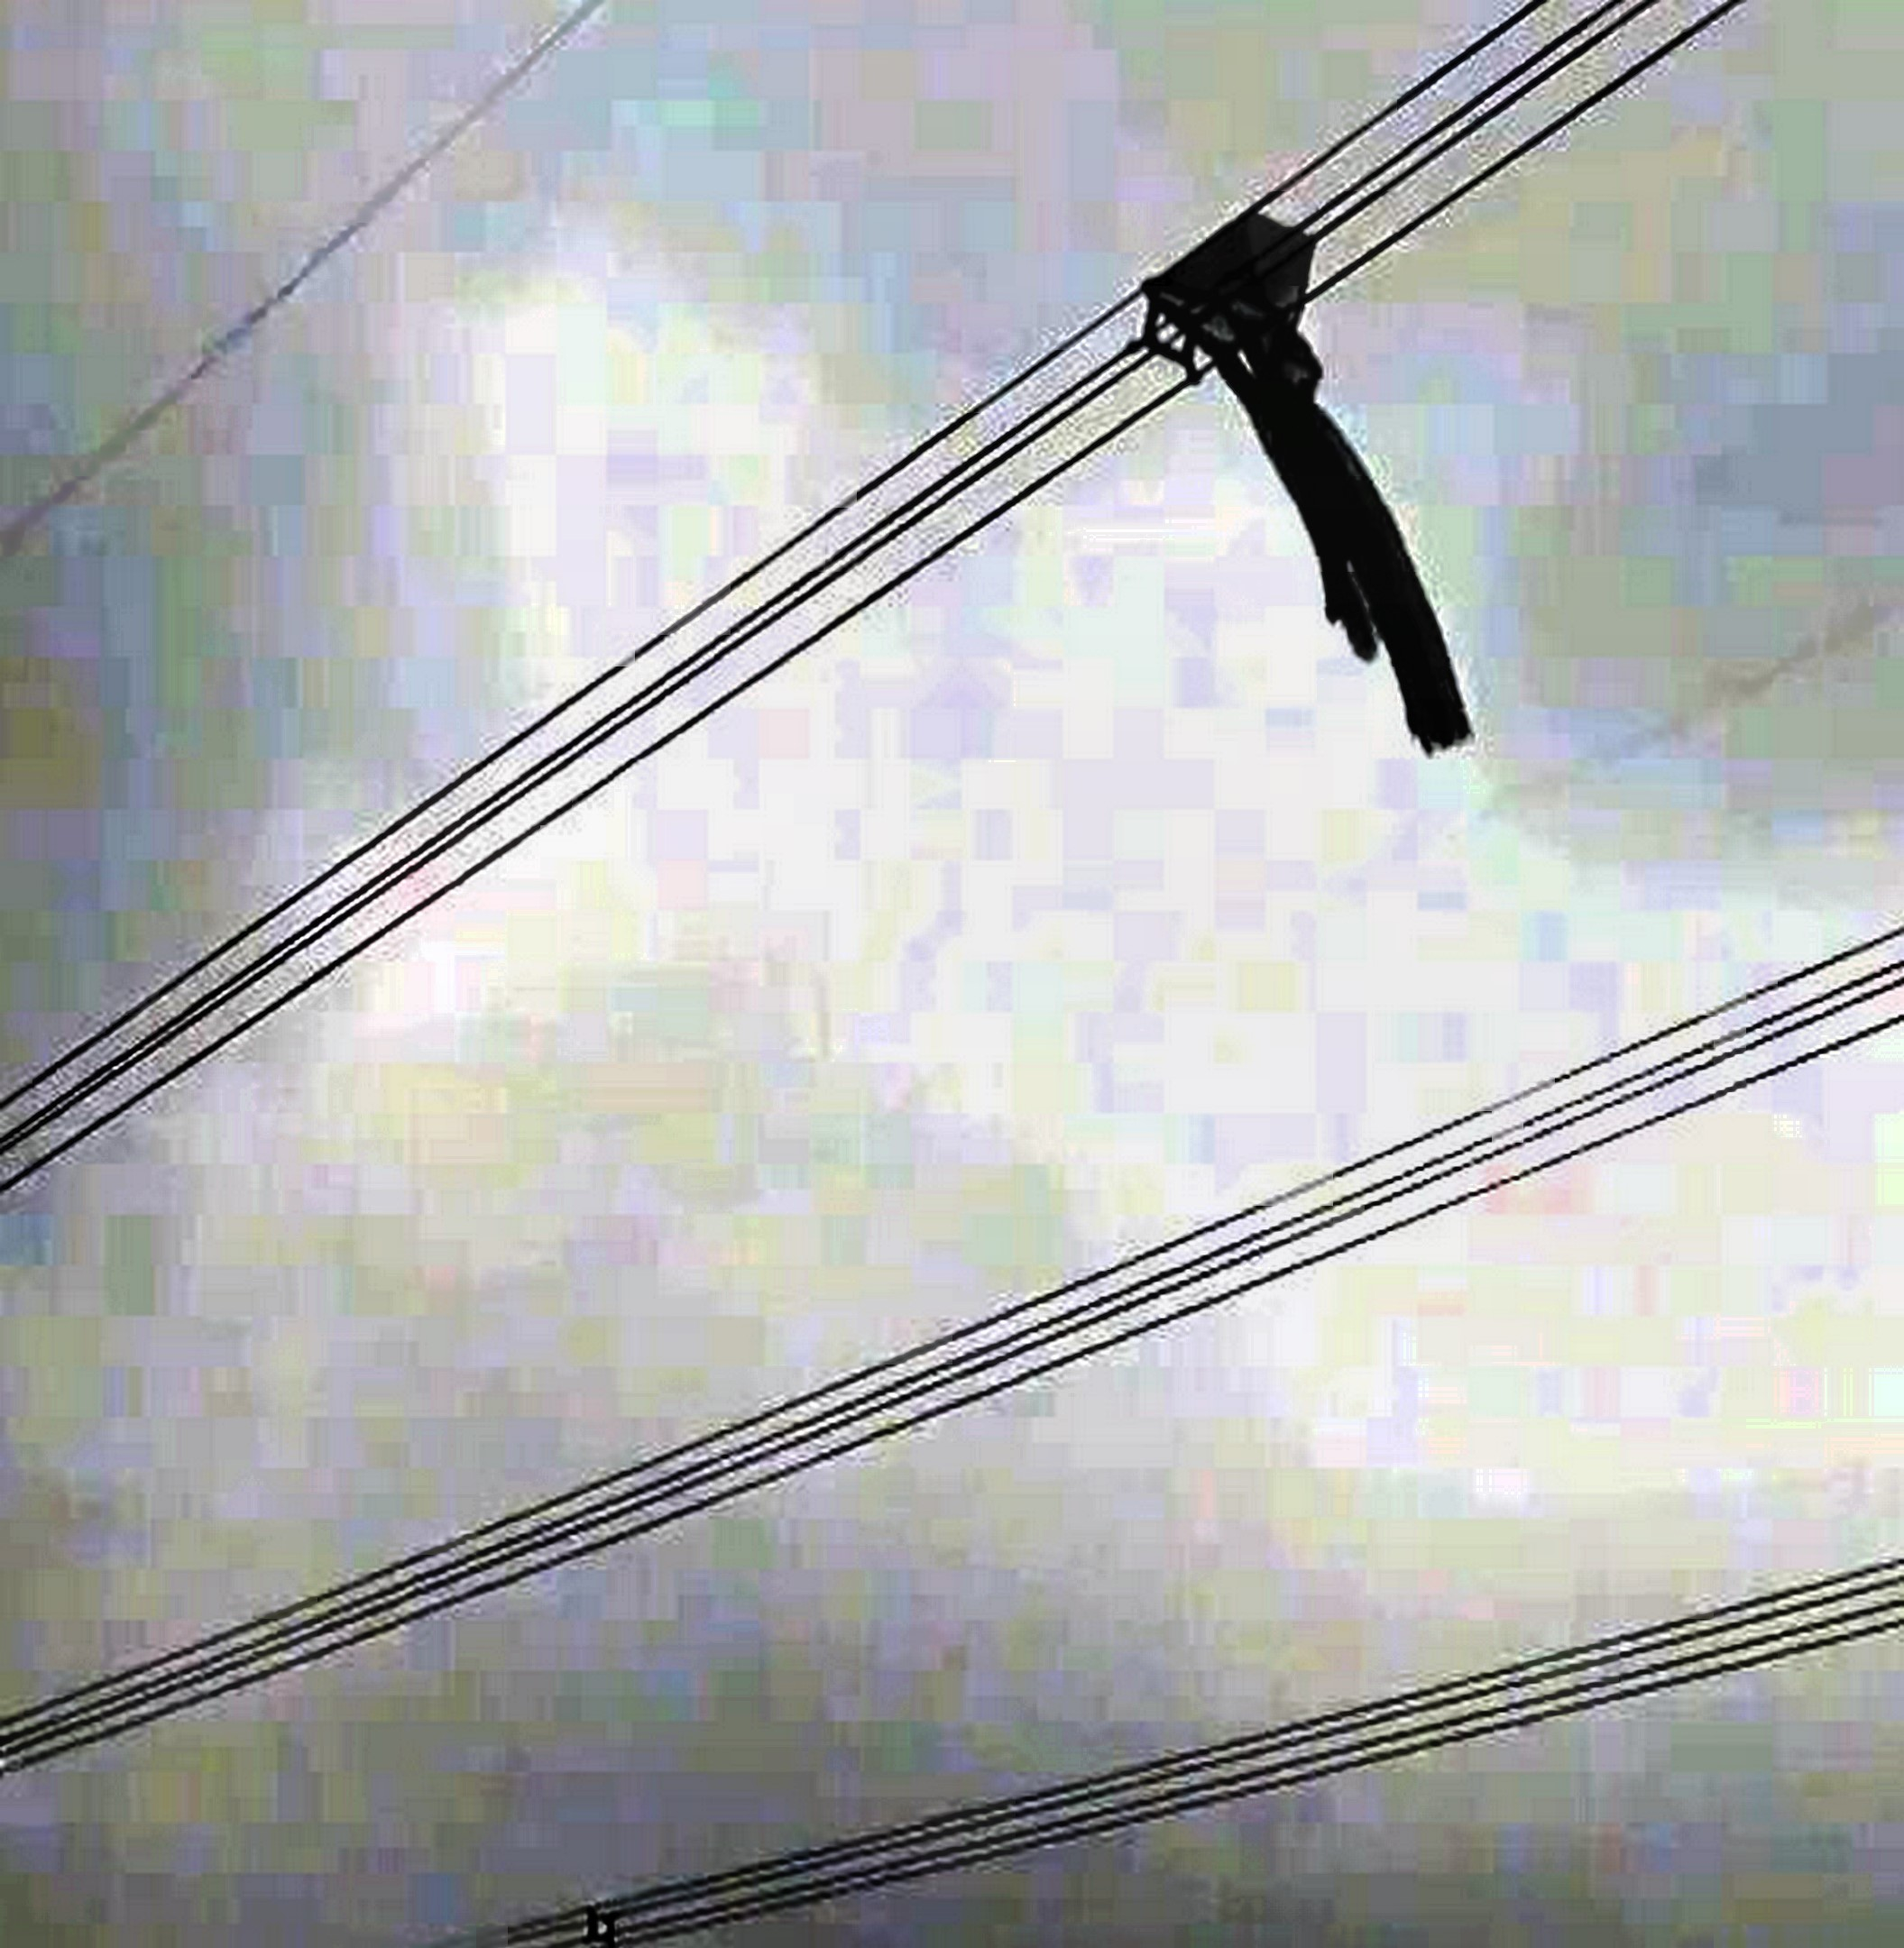wire foreign body: (1085, 190, 1512, 755)
